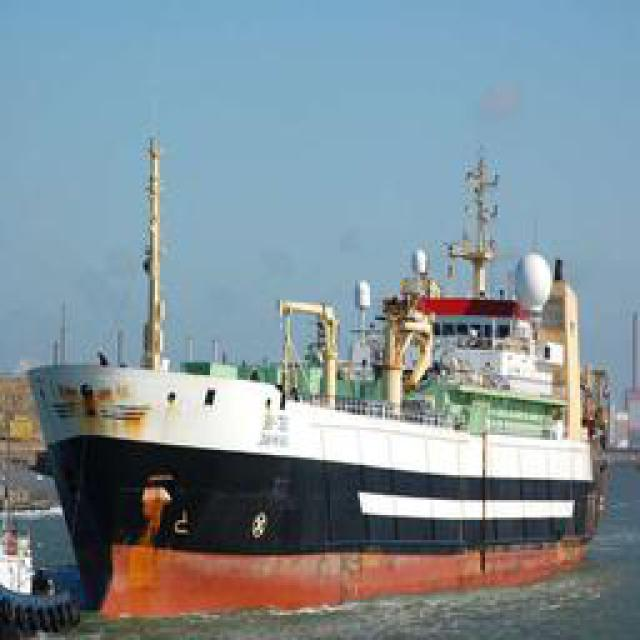Ship: (30, 125, 618, 600)
